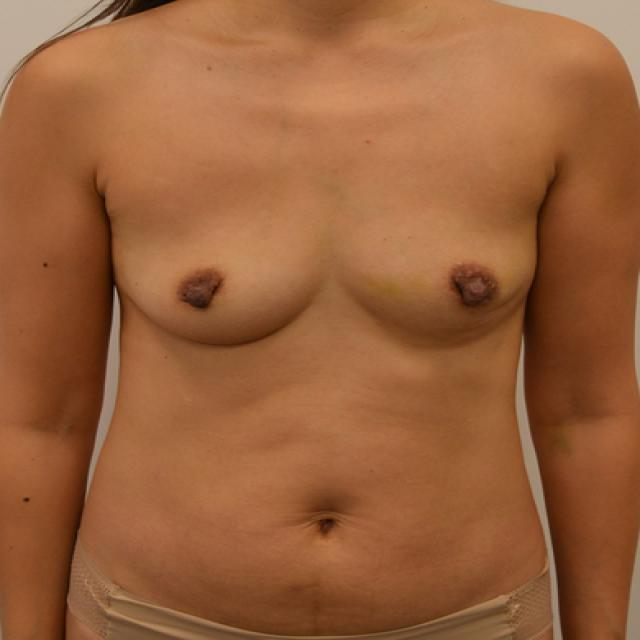Seno herido: (343, 174, 550, 354)
Seno ileso: (106, 172, 326, 356)
